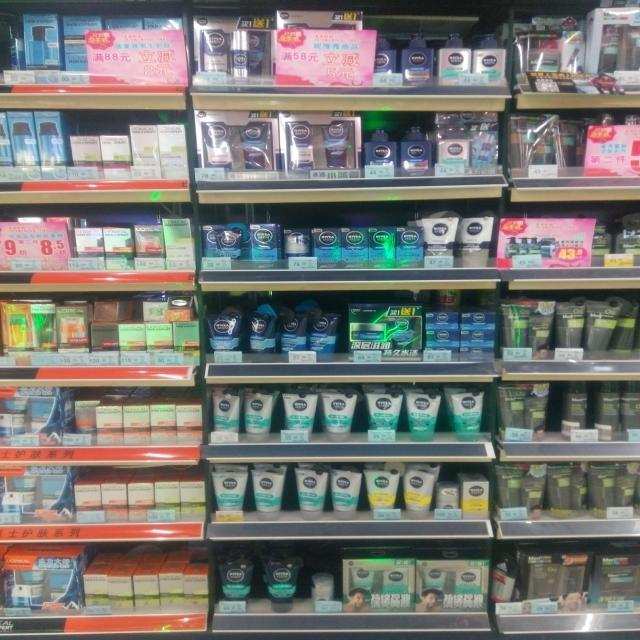unorganised: (494, 551, 523, 613), (594, 213, 621, 260), (71, 400, 97, 443), (91, 301, 133, 322)
